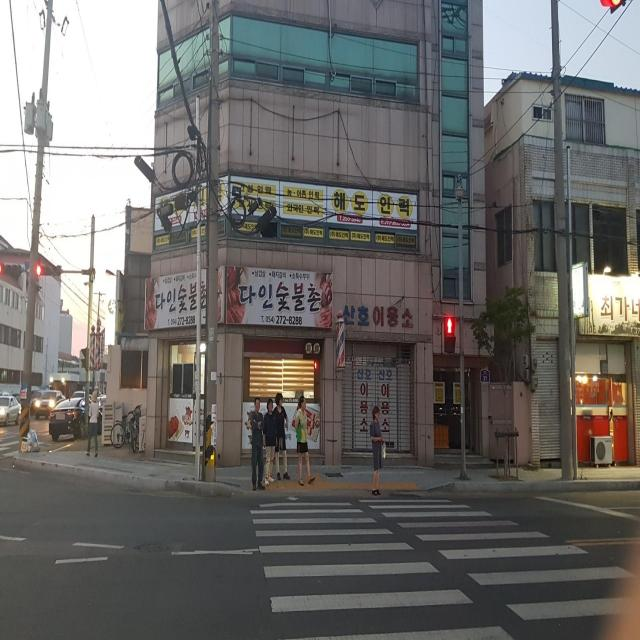빨간불: (443, 313, 455, 352)
횡단보도: (248, 494, 640, 640)
